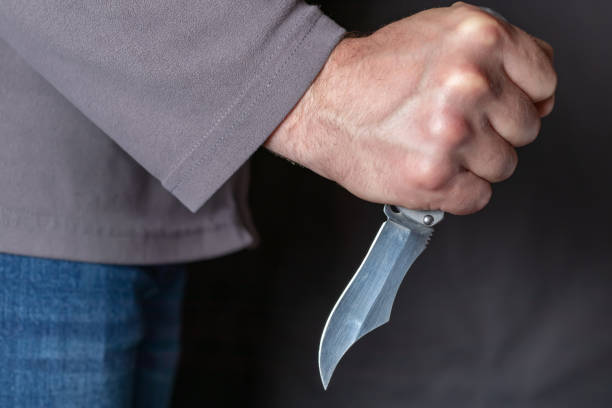knife: (317, 202, 447, 393)
